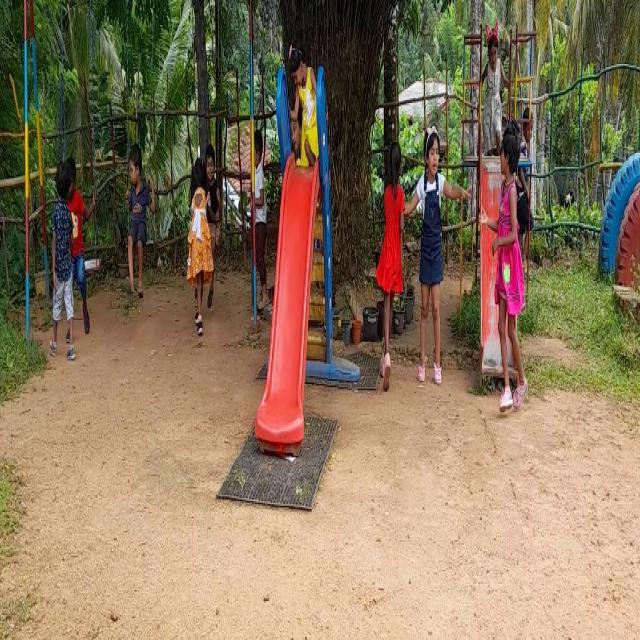child: (417, 100, 456, 400), (376, 115, 410, 388), (492, 118, 523, 411), (121, 110, 152, 326), (55, 144, 87, 350), (248, 115, 269, 314), (295, 6, 319, 161), (184, 155, 206, 323)
